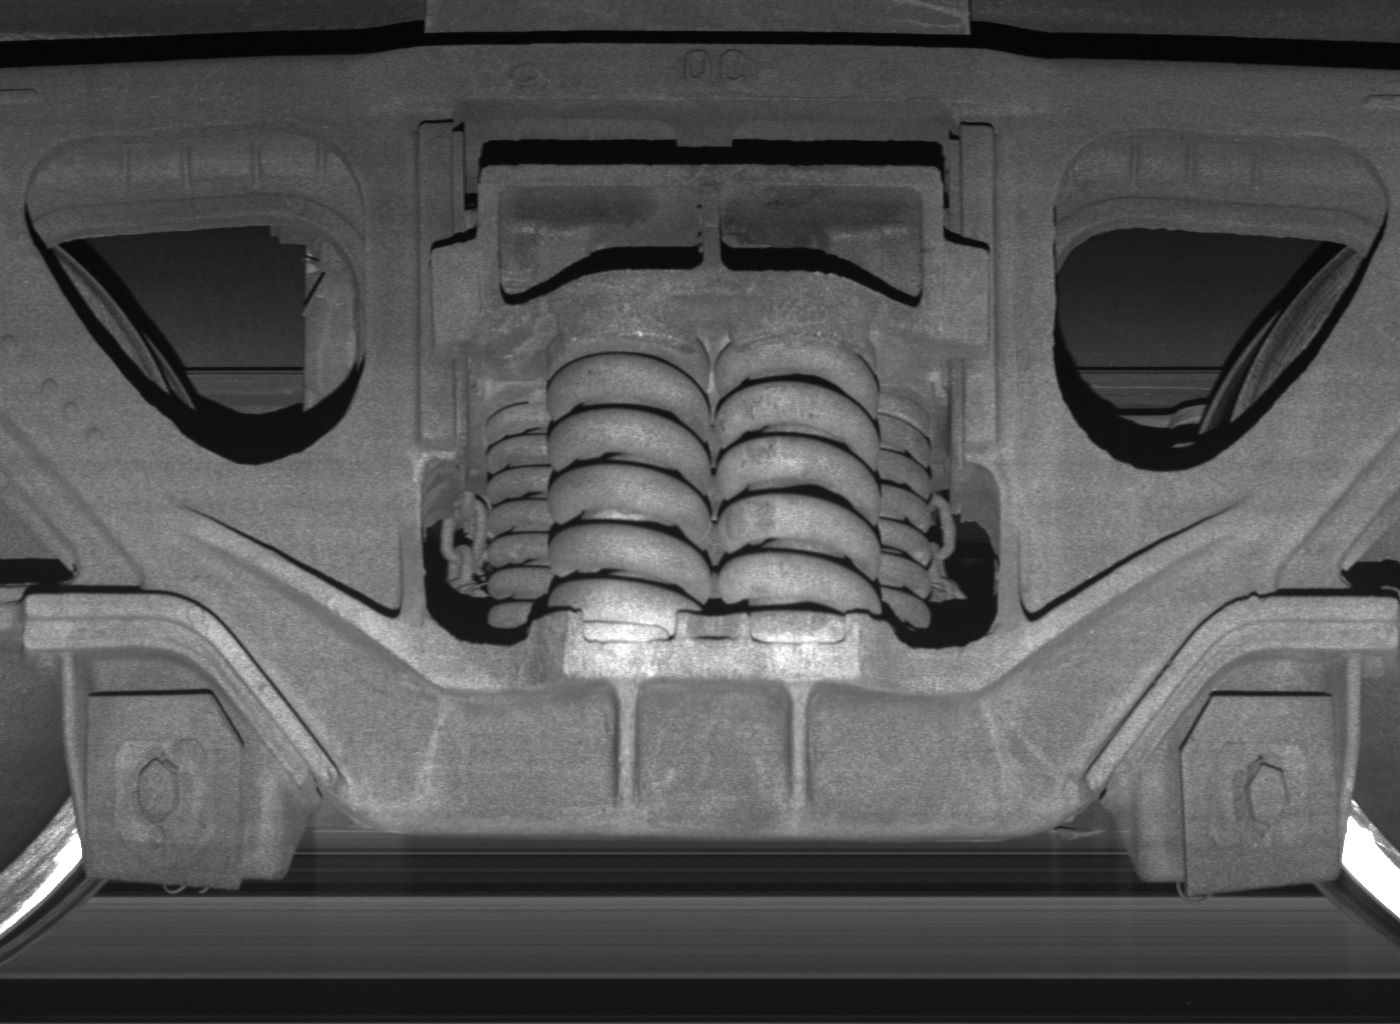Locking plate: (1139, 653, 1364, 900)
normal: (63, 648, 318, 892)
